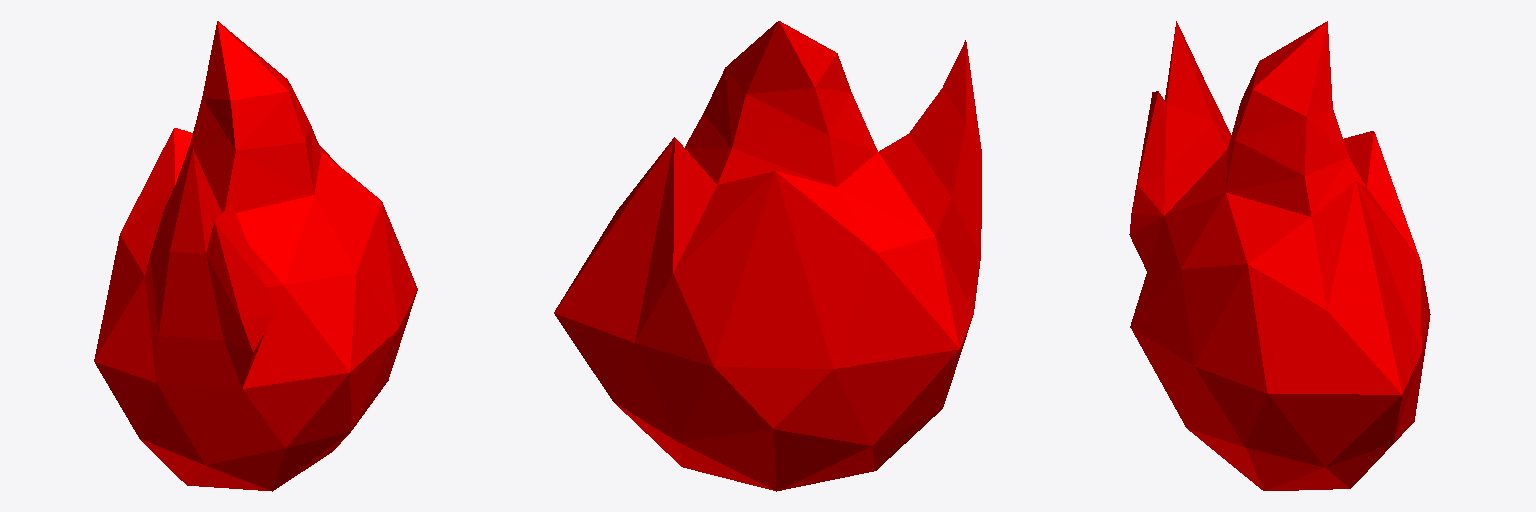
The robot description file, URDF, robot "fire":
<?xml version="1.0" ?>
<robot name="fire">
  <link name="baseLink">

    <visual>
      <origin rpy="0 0 0" xyz="0 0 0.0"/> 
      <geometry>
        <mesh filename="fire.obj" scale="1 1 1"/>
      </geometry>
      <material name="red">
        <color rgba="1 0 0 1.0"/>
      </material>
    </visual>
    
    <collision>
      <origin rpy="0 0 0" xyz="0 0 0.0"/> 
      <geometry>
        <mesh filename="fire.obj" scale="0 0 0"/>
        
        </geometry>
    </collision>

    <inertial>
      <mass value="0.0"/> <origin rpy="0 0 0" xyz="0 0 0.0"/>
      <inertia ixx="0" ixy="0" ixz="0" iyy="0" iyz="0" izz="0"/>
    </inertial>
  </link>
</robot>

--- Facts derived from the render (not from the file) ---
The picture shows the robot from 3 angles, left to right: view 1: azimuth 30°, elevation 25°; view 2: azimuth 150°, elevation 25°; view 3: azimuth 270°, elevation 25°; orthographic projection.
Model fire with 1 links and 0 joints (none), rooted at baseLink, posed all joints at 0.
Visible links, largest first — view 1: baseLink; view 2: baseLink; view 3: baseLink.
Link boxes in pixels (box(x1,y1,x2,y2)): baseLink: box(94, 21, 417, 491); baseLink: box(554, 21, 981, 491); baseLink: box(1129, 21, 1430, 490).
Size in the robot's own frame: 0.6199 by 0.5045 by 0.8395 metres.
1 mesh visuals loaded from 1 distinct referenced files (1 OBJ).
